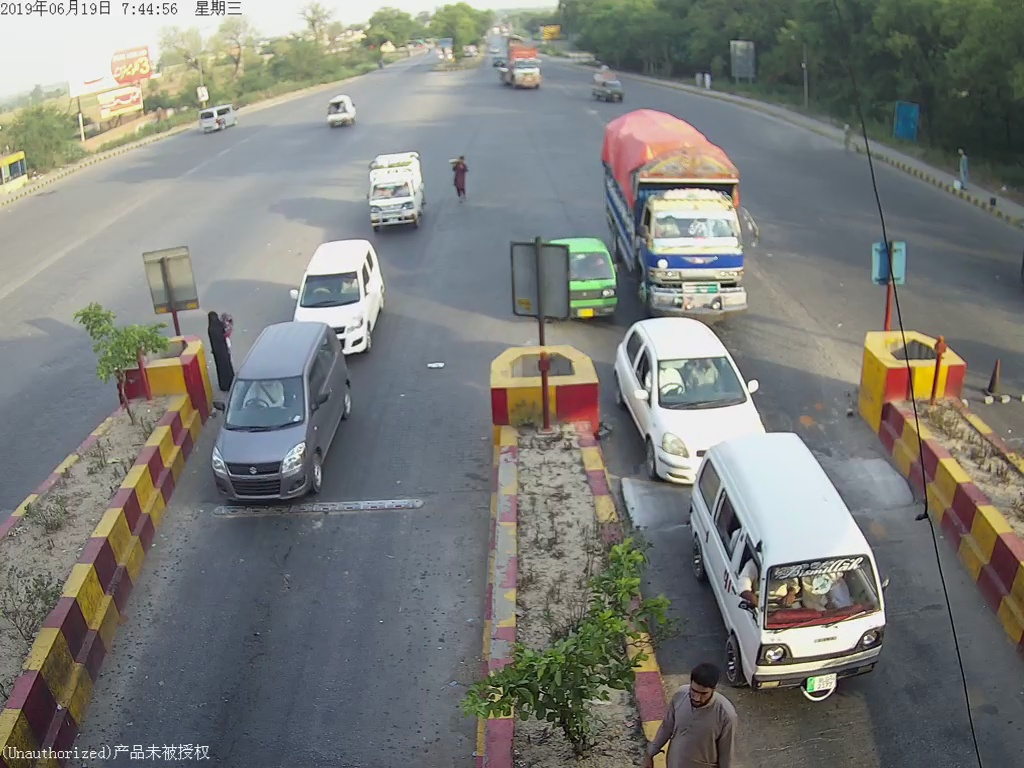Cat-1: (695, 439, 906, 705), (212, 319, 348, 505), (612, 314, 761, 434), (290, 242, 392, 331), (361, 153, 426, 232)
